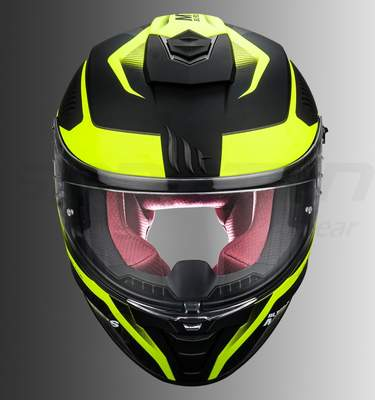with_helmet: (34, 10, 340, 390)
